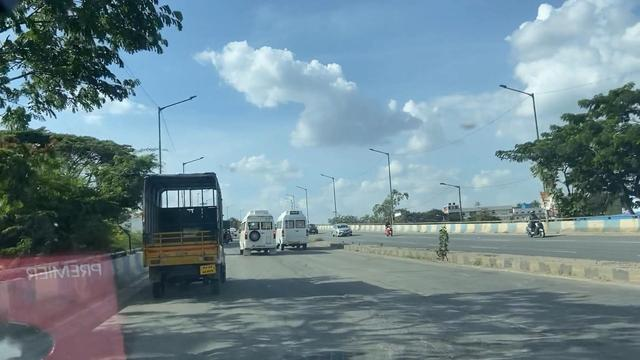HMV: (132, 159, 224, 286), (239, 206, 278, 259), (277, 205, 306, 253)
RoadDamages: (363, 293, 533, 360)
